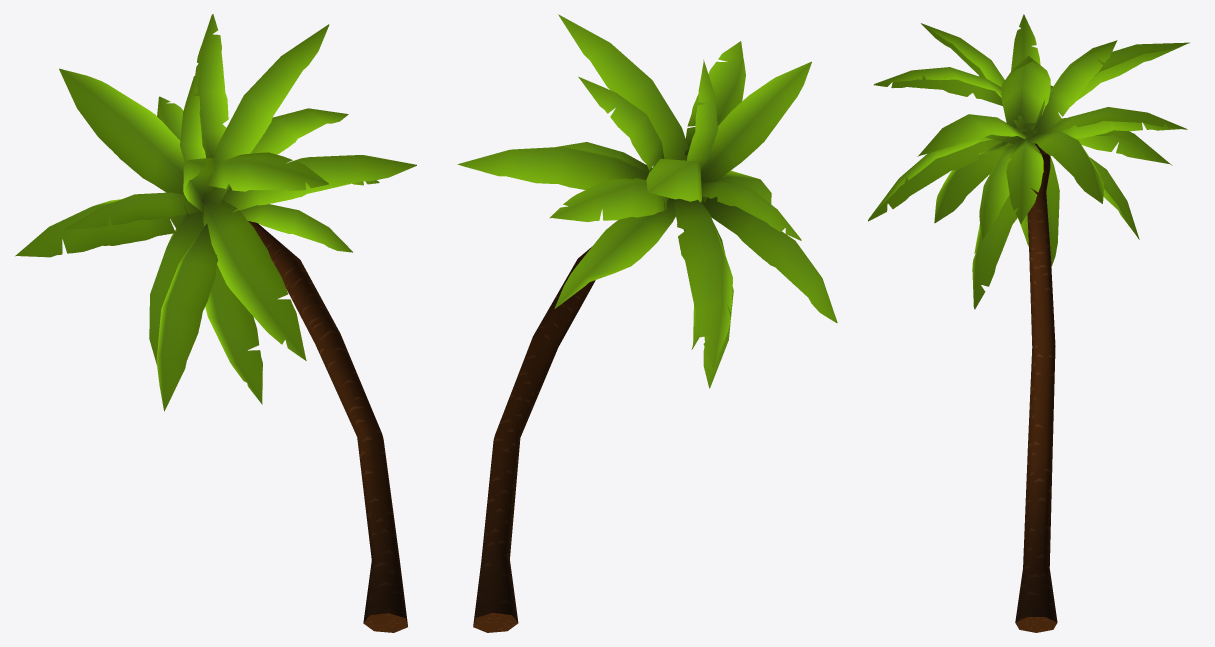
File: Palm 2.FBX
3 views of the same model, side by side, from view 1: azimuth 30°, elevation 25°; view 2: azimuth 150°, elevation 25°; view 3: azimuth 270°, elevation 25° (orthographic). The views are drawn at different scales.
Parts seen in each view (by area): view 1: Palm Tree; view 2: Palm Tree; view 3: Palm Tree.
Boxes of the visible parts, <box> form: Palm Tree: <box>15,14,416,632</box>; Palm Tree: <box>457,14,837,632</box>; Palm Tree: <box>868,14,1189,632</box>.
Bounding box in the file's own units: 6.22 × 10.95 × 6.17.
Materials: 1 (1 with a texture image).
